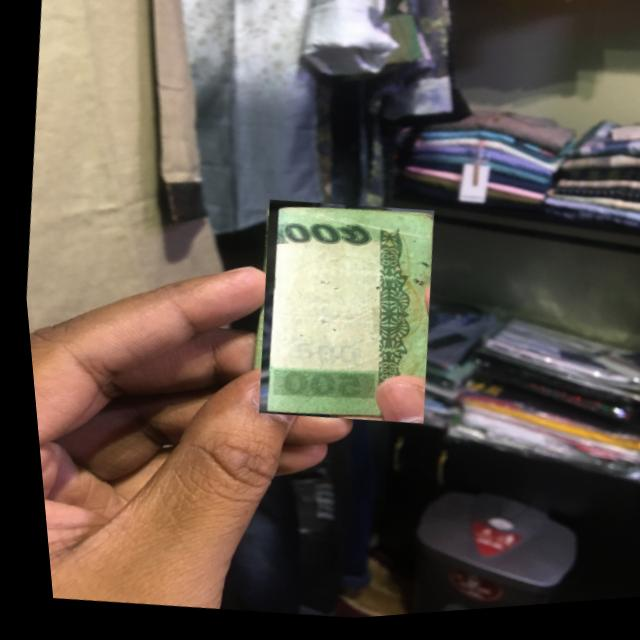Taka: (236, 194, 445, 439)
